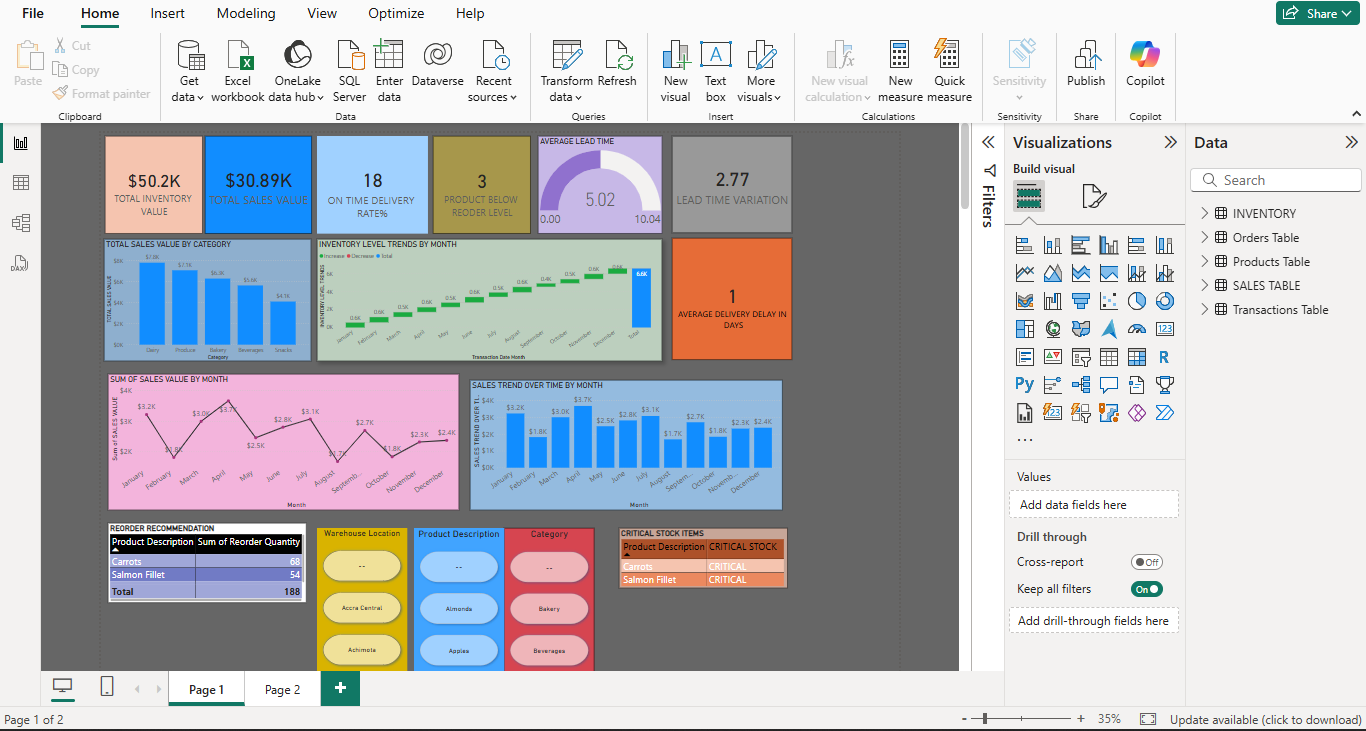

The dashboard page shown, as its layout file describes it:
{"tool":"powerbi","page":{"name":"Page 1","canvas":[2280,9999],"ordinal":0},"visuals":[{"type":"card","fields":{"Values":["Products Table.TOTAL INVENTORY VALUE"]},"box":[10.2,7.7,279,279],"z":0},{"type":"card","fields":{"Values":["Products Table.PRODUCT BELOW REODER LEVEL"]},"box":[948.2,7.6,278.8,278.8],"z":1000},{"type":"gauge","fields":{"Y":["Products Table.AVERAGE LEAD TIME"]},"box":[1247.8,7.6,354.6,278.8],"z":2000},{"type":"card","fields":{"Values":["Orders Table.ON TIME DELIVERY RATE%"]},"box":[616.3,7.6,316.7,278.8],"z":3000},{"type":"card","fields":{"Values":["Orders Table.AVERAGE DELIVERY DELAY IN DAYS"]},"box":[1631.1,300.5,343.4,348.4],"z":4000},{"type":"card","fields":{"Values":["SALES TABLE.TOTAL SALES VALUE"]},"box":[295.8,7.6,305.3,278.8],"z":5000},{"type":"clusteredColumnChart","title":"TOTAL SALES VALUE BY CATEGORY","fields":{"Y":["SALES TABLE.TOTAL SALES VALUE"],"Category":["Products Table.Category"]},"box":[9.5,301.5,591.6,348.9],"z":6000},{"type":"lineChart","title":"SUM OF SALES VALUE BY MONTH","fields":{"Y":["Sum(SALES TABLE.SALES VALUE)"],"Category":["SALES TABLE.Transaction Date.Variation.Date Hierarchy.Month"]},"box":[19,688.4,1003.1,388.7],"z":7000},{"type":"pivotTable","title":"REORDER RECOMMENDATION","fields":{"Rows":["Products Table.Product Description"],"Values":["Sum(Products Table.Reorder Quantity)"]},"box":[19,1113.1,567,227.6],"z":8000},{"type":"tableEx","title":"CRITICAL STOCK ITEMS","fields":{"Values":["Products Table.Product Description","Products Table.CRITICAL STOCK"]},"box":[1479.6,1129.6,481.9,172.5],"z":9000},{"type":"clusteredColumnChart","title":"SALES TREND OVER TIME BY MONTH","fields":{"Y":["Sum(SALES TABLE.SALES VALUE)"],"Category":["SALES TABLE.Transaction Date.Variation.Date Hierarchy.Month"]},"box":[1054.3,705.4,893.2,371.7],"z":10000},{"type":"card","fields":{"Values":["Products Table.LEAD TIME VARIATION"]},"box":[1630.1,8.5,343.3,277.3],"z":12000},{"type":"waterfallChart","title":"INVENTORY LEVEL TRENDS BY MONTH","fields":{"Category":["INVENTORY.Transaction Date.Variation.Date Hierarchy.Month"],"Y":["INVENTORY.INVENTORY LEVEL"]},"box":[616.3,301.5,986.1,348.9],"z":13000},{"type":"advancedSlicerVisual","fields":{"Values":["Products Table.Category"]},"box":[1151.4,1128.6,257.5,431.8],"z":14000},{"type":"advancedSlicerVisual","fields":{"Values":["Products Table.Warehouse Location"]},"box":[616.1,1128.6,257.5,431.8],"z":15000},{"type":"advancedSlicerVisual","fields":{"Values":["Products Table.Product Description"]},"box":[893.8,1128.6,257.5,431.8],"z":16000}]}

Visuals, with their boxes on the page's 2280x9999 design canvas (x1, y1, x2, y2). These are canvas units, not pixel positions in the 1366x731 screenshot, which may show the page scaled, cropped or inside an application window:
card - Products Table.TOTAL INVENTORY VALUE: [x1=10, y1=8, x2=289, y2=287]
card - Products Table.PRODUCT BELOW REODER LEVEL: [x1=948, y1=8, x2=1227, y2=286]
gauge - Products Table.AVERAGE LEAD TIME: [x1=1248, y1=8, x2=1602, y2=286]
card - Orders Table.ON TIME DELIVERY RATE%: [x1=616, y1=8, x2=933, y2=286]
card - Orders Table.AVERAGE DELIVERY DELAY IN DAYS: [x1=1631, y1=300, x2=1974, y2=649]
card - SALES TABLE.TOTAL SALES VALUE: [x1=296, y1=8, x2=601, y2=286]
"TOTAL SALES VALUE BY CATEGORY" clusteredColumnChart: [x1=10, y1=302, x2=601, y2=650]
"SUM OF SALES VALUE BY MONTH" lineChart: [x1=19, y1=688, x2=1022, y2=1077]
"REORDER RECOMMENDATION" pivotTable: [x1=19, y1=1113, x2=586, y2=1341]
"CRITICAL STOCK ITEMS" tableEx: [x1=1480, y1=1130, x2=1962, y2=1302]
"SALES TREND OVER TIME BY MONTH" clusteredColumnChart: [x1=1054, y1=705, x2=1948, y2=1077]
card - Products Table.LEAD TIME VARIATION: [x1=1630, y1=8, x2=1973, y2=286]
"INVENTORY LEVEL TRENDS BY MONTH" waterfallChart: [x1=616, y1=302, x2=1602, y2=650]
advancedSlicerVisual - Products Table.Category: [x1=1151, y1=1129, x2=1409, y2=1560]
advancedSlicerVisual - Products Table.Warehouse Location: [x1=616, y1=1129, x2=874, y2=1560]
advancedSlicerVisual - Products Table.Product Description: [x1=894, y1=1129, x2=1151, y2=1560]
